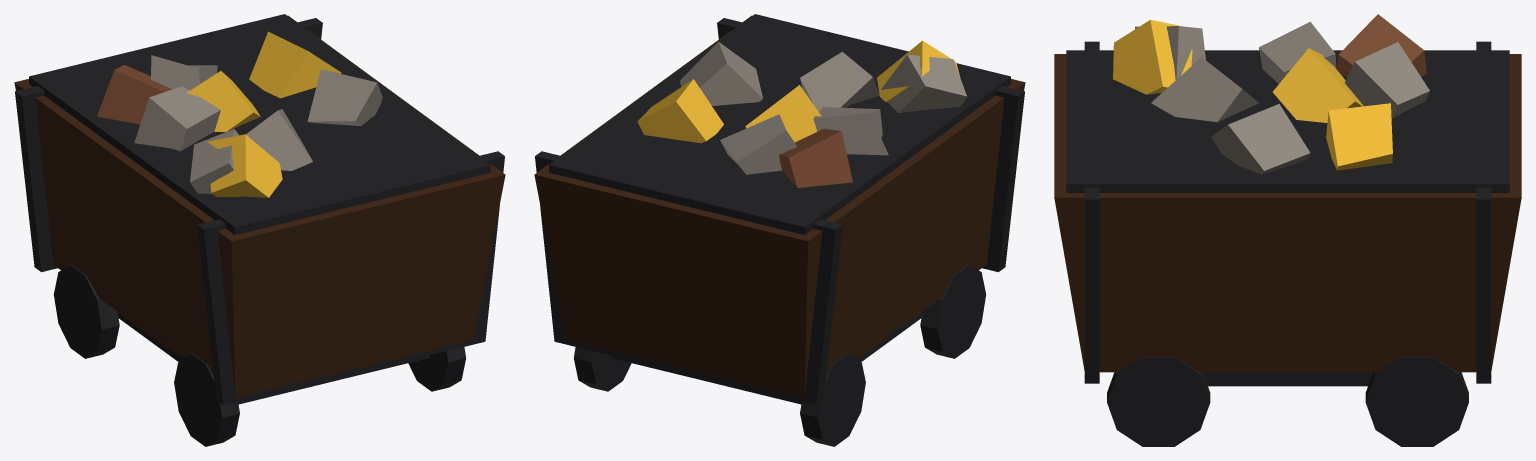
The model's file is SM_Mine_Cart.obj.
3 renders of one model, left to right at view 1: azimuth 30°, elevation 25°; view 2: azimuth 150°, elevation 25°; view 3: azimuth 270°, elevation 25°, orthographic. The views are drawn at different scales.
Parts seen in each view (by area): view 1: SM_Mine_Cart; view 2: SM_Mine_Cart; view 3: SM_Mine_Cart.
Part boxes in pixels (box(x1,y1,x2,y2)): SM_Mine_Cart: box(14, 14, 505, 446); SM_Mine_Cart: box(534, 14, 1025, 446); SM_Mine_Cart: box(1054, 14, 1521, 446).
Bounding box in the file's own units: 1.01 × 0.9616 × 1.26.
